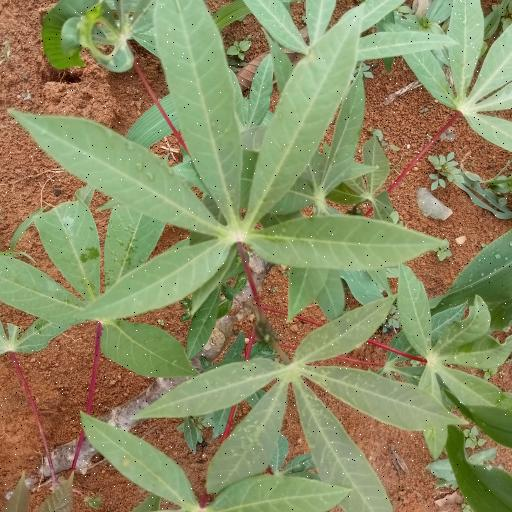Cassava_Mosaic: (10, 2, 442, 301), (147, 311, 442, 512)
